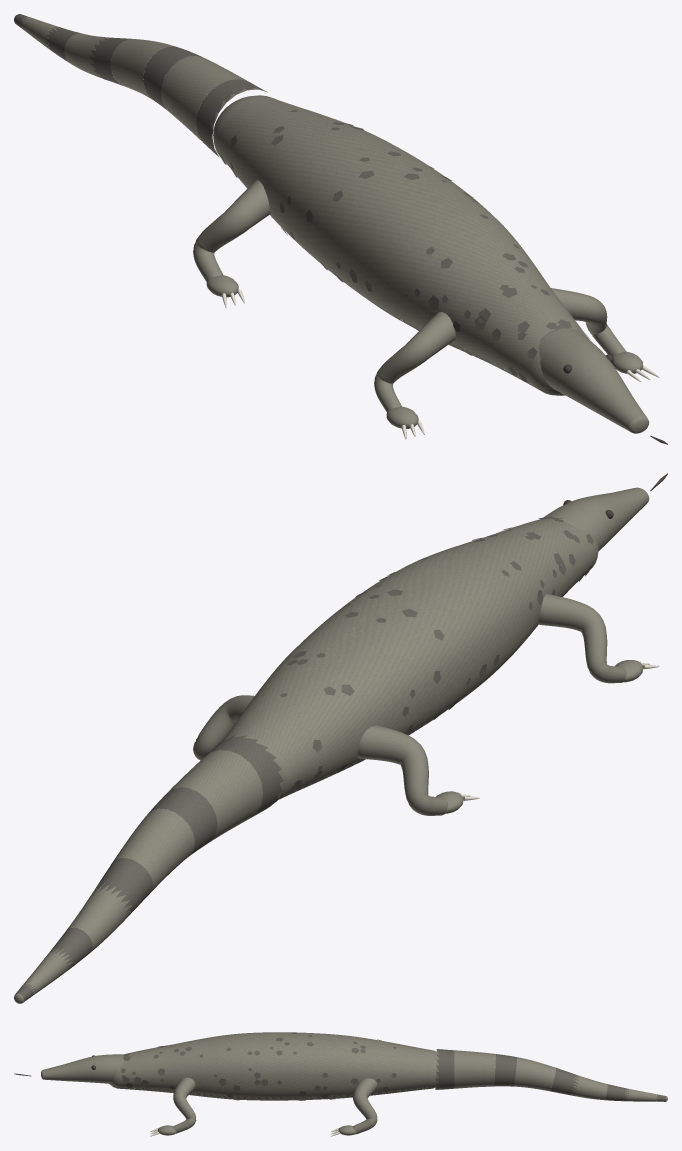
Rendered from other-komodo-dragon.glb.
3 renders of one model, top to bottom at view 1: azimuth 30°, elevation 25°; view 2: azimuth 150°, elevation 25°; view 3: azimuth 270°, elevation 25°, orthographic. The views are drawn at different scales.
Visible parts, largest first — view 1: komodo-dragon; view 2: komodo-dragon; view 3: komodo-dragon.
Part boxes in pixels (left/top/right/bottom): komodo-dragon: left=14, top=14, right=667, bottom=444; komodo-dragon: left=14, top=473, right=667, bottom=1003; komodo-dragon: left=14, top=1032, right=667, bottom=1136.
Size of the model in its own units: 0.9957 by 0.5191 by 4.42.
Materials: 5 (3 with a texture image).
